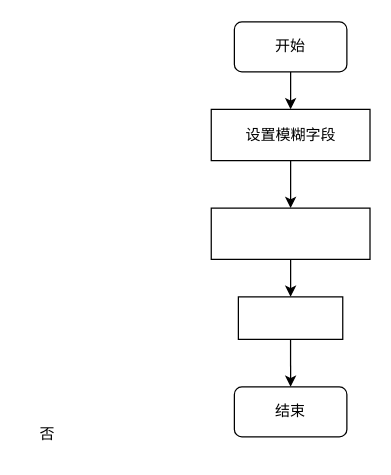
The diagram is 391 pixels wide and 475 high, and some of its shapes have lost their labels. Here are the shapes that lost their labels. From the top down, the centre of each, then its label:
(x=290, y=233): 设置精确字段
(x=290, y=317): 发布
